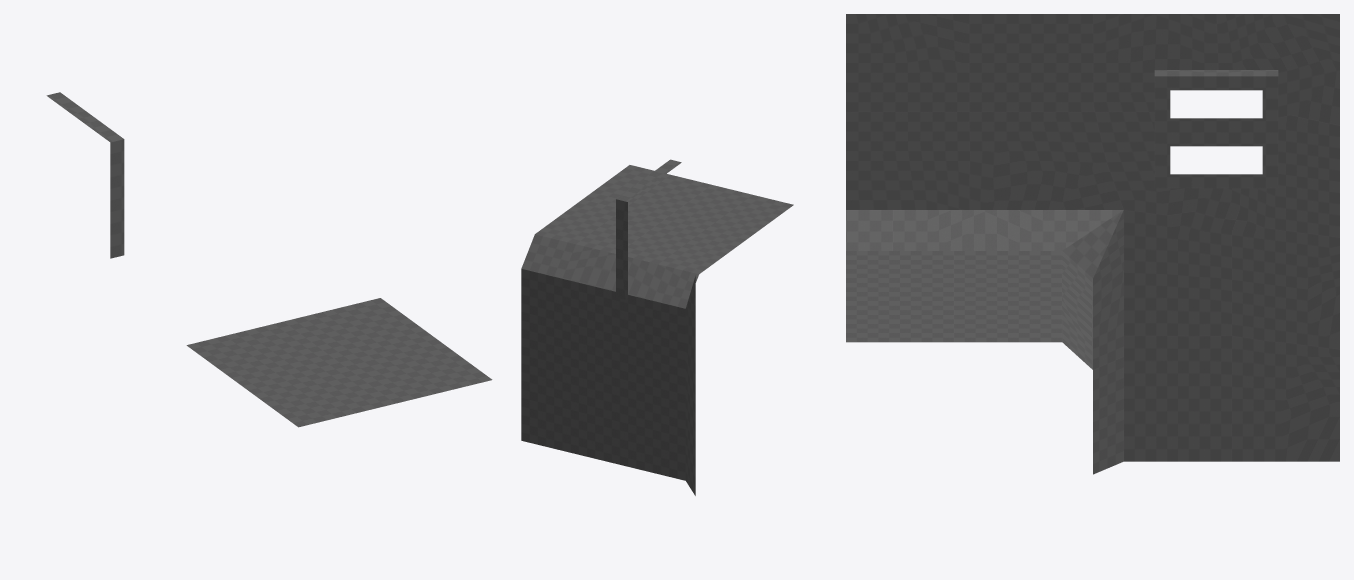
The picture shows the model from 3 angles, left to right: view 1: azimuth 30°, elevation 25°; view 2: azimuth 150°, elevation 25°; view 3: azimuth 270°, elevation 25°; orthographic projection. The views are drawn at different scales.
Visible parts, largest first — view 1: 1; view 2: 1; view 3: 1.
Part boxes in pixels (x1,y1,x2,y2): 1: [46, 92, 492, 427]; 1: [521, 159, 793, 495]; 1: [846, 14, 1339, 474].
Size of the model in its own units: 2 by 4 by 4.
2 materials, 2 textured.
